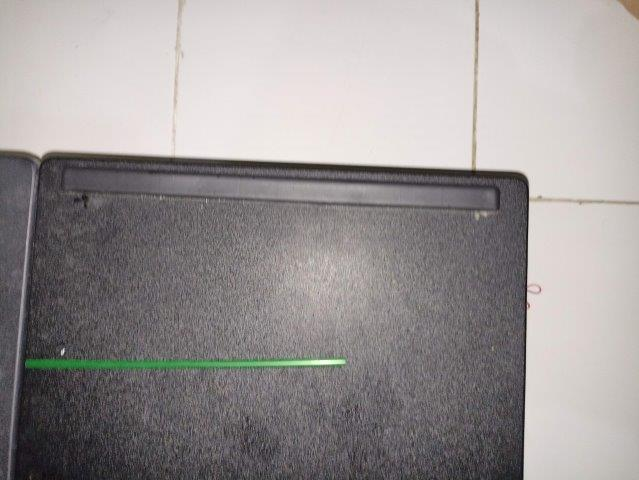karet: (527, 284, 542, 310)
sedotan: (25, 358, 347, 368)
